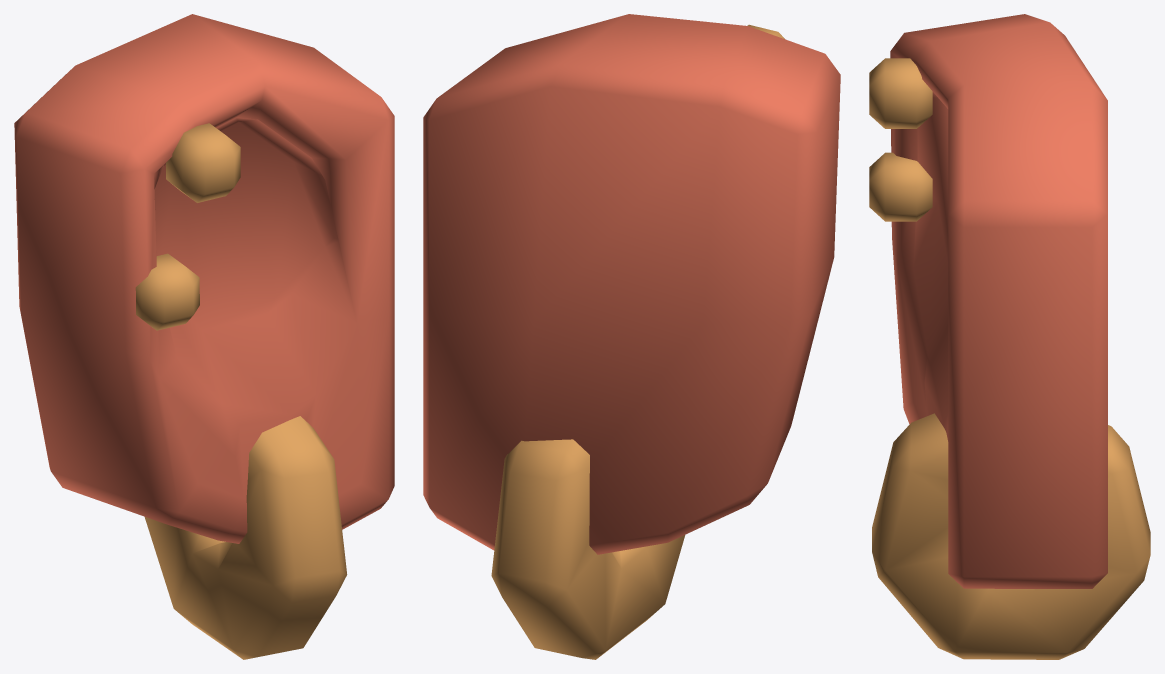
Rendered from ear1.fbx.
The picture shows the model from 3 angles, left to right: view 1: azimuth 30°, elevation 25°; view 2: azimuth 150°, elevation 25°; view 3: azimuth 270°, elevation 25°; orthographic projection. The views are drawn at different scales.
Visible parts, largest first — view 1: ear1; view 2: ear1; view 3: ear1.
Boxes of the visible parts, <box> form: ear1: <box>14,14,394,659</box>; ear1: <box>423,14,840,659</box>; ear1: <box>869,14,1150,659</box>.
Size of the model in its own units: 182 by 297 by 135.
